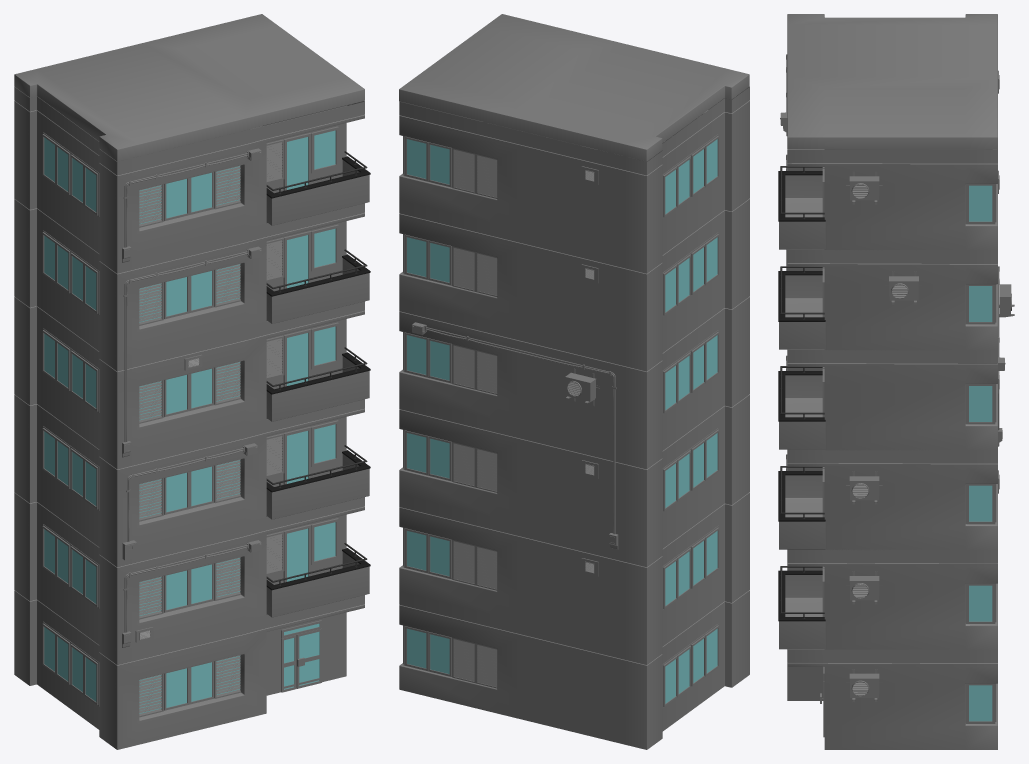
Rendered from SM_apartment_building_04.fbx.
3 renders of one model, left to right at view 1: azimuth 30°, elevation 25°; view 2: azimuth 150°, elevation 25°; view 3: azimuth 270°, elevation 25°, orthographic. The views are drawn at different scales.
Visible parts, largest first — view 1: Box678; view 2: Box678; view 3: Box678.
Part boxes in pixels (x1=…): Box678: x1=14, y1=14, x2=370, y2=749; Box678: x1=399, y1=14, x2=749, y2=749; Box678: x1=778, y1=14, x2=1014, y2=749.
Size of the model in its own units: 435 by 953 by 334.
